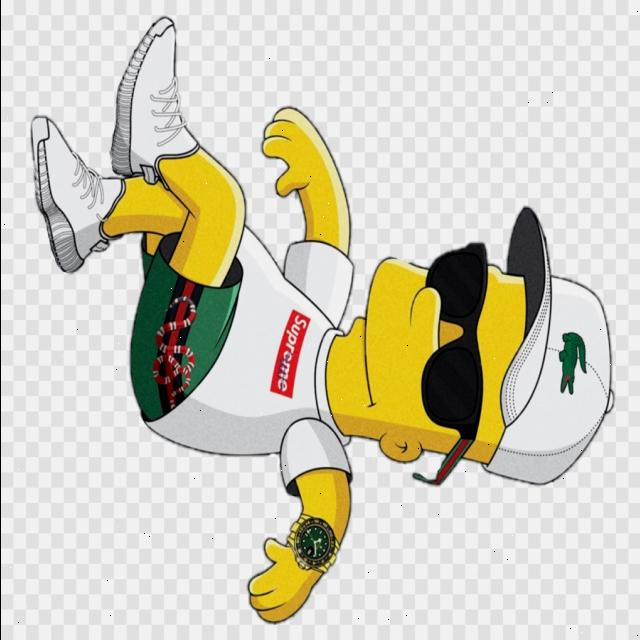Bart Simpson: (319, 202, 617, 492)
